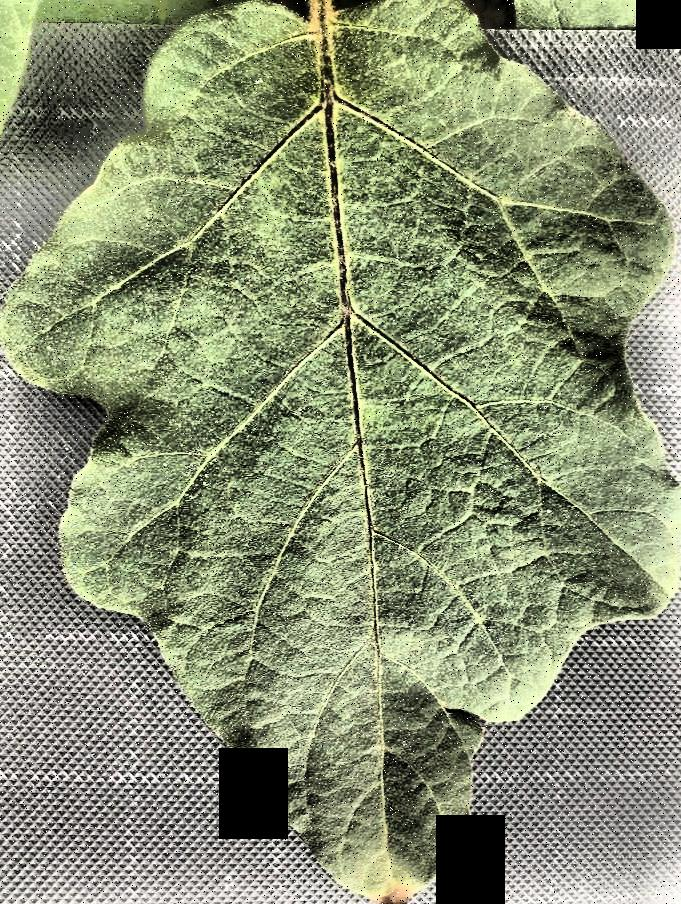HEALTHY: (1, 1, 681, 904)
